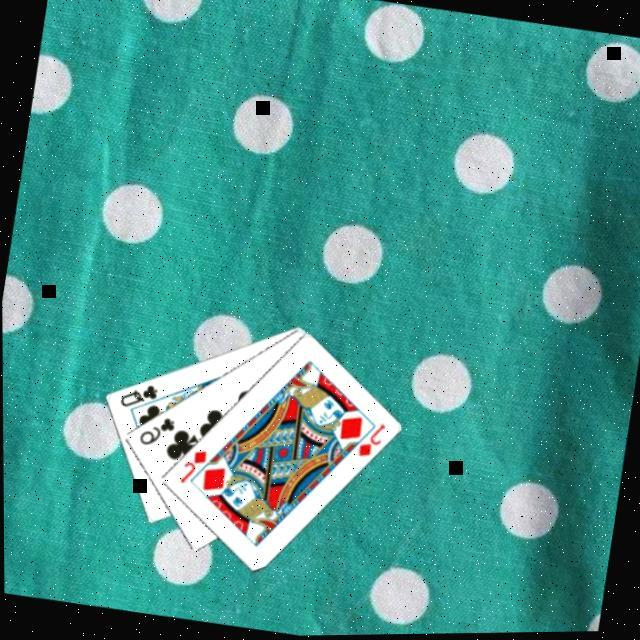9C: (134, 408, 180, 451)
JD: (175, 443, 211, 488), (354, 417, 389, 462)
QC: (116, 376, 162, 413)
